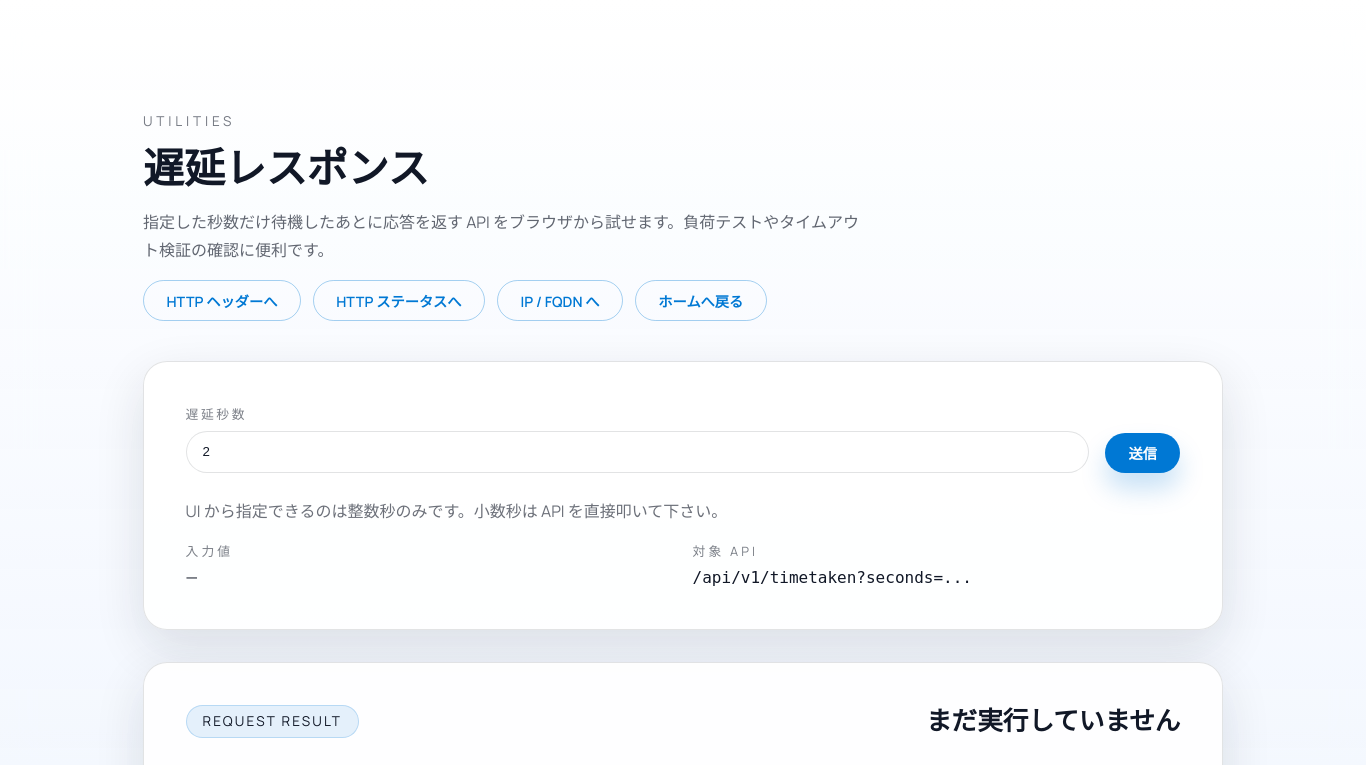
Scenario: Utility pages › TimeTakenPage cancels the in-flight request from the form
expect the button "中断" is not shown: met
Click the button "送信" at (1143, 453), box [1105, 433, 1180, 473]
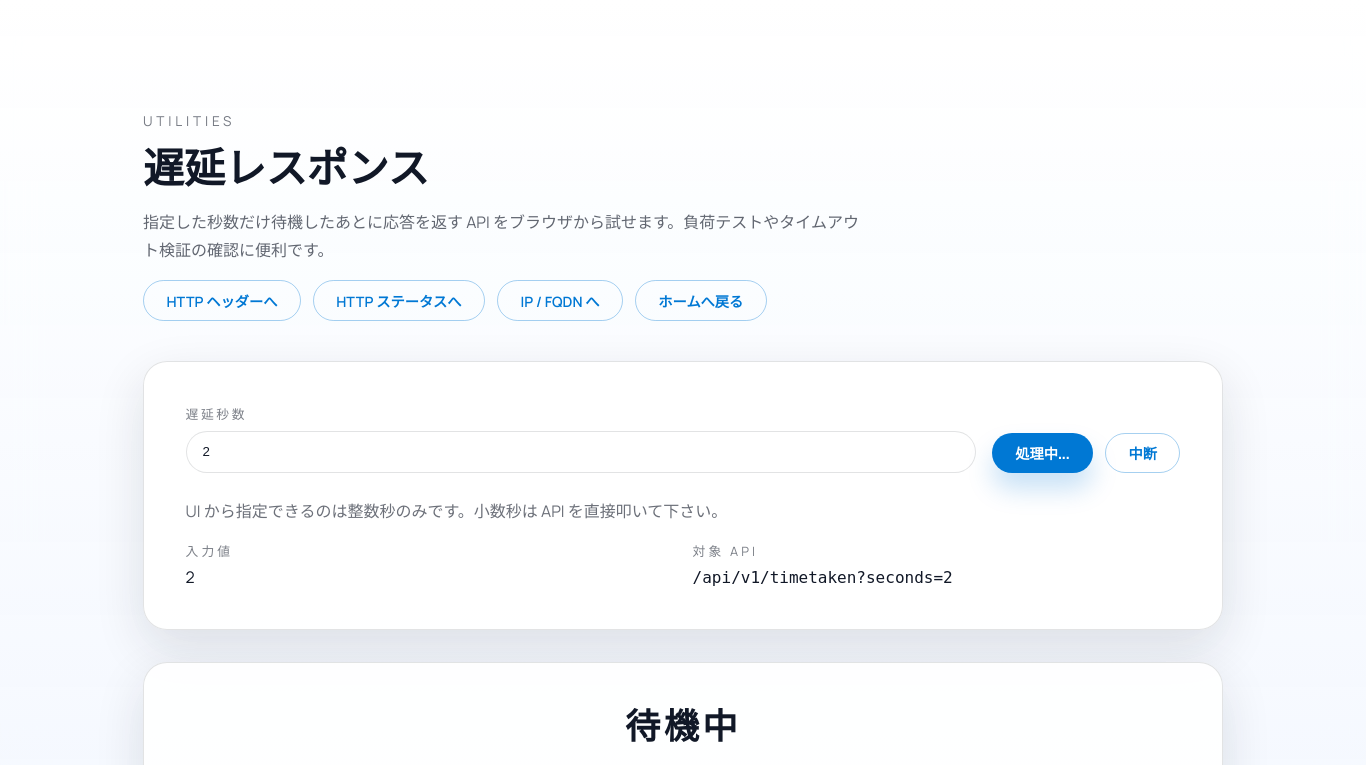
expect the heading "待機中" is shown: met, box [625, 705, 741, 747]
expect the button "中断" is enabled: met
Click the button "中断" at (1143, 453), box [1105, 433, 1180, 473]
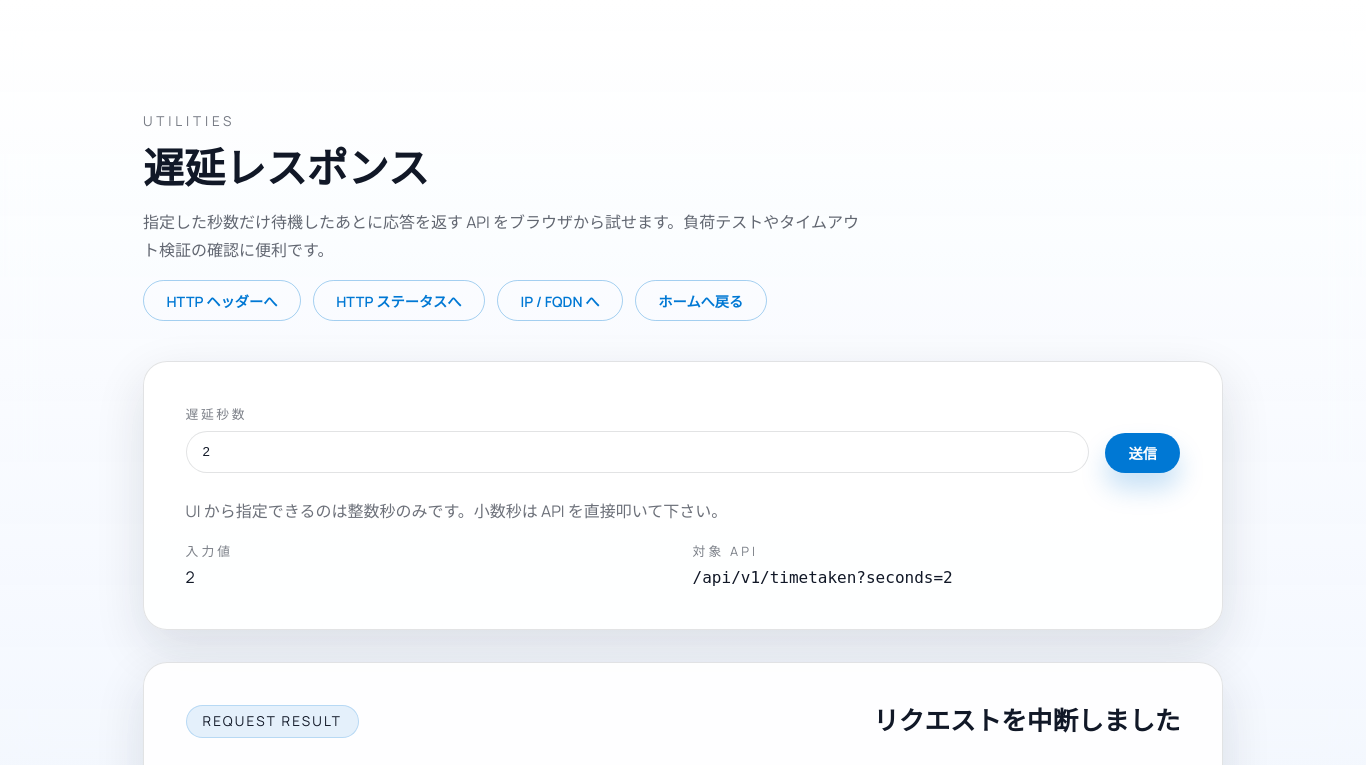
expect the heading "リクエストを中断しました" is shown: met, box [873, 706, 1180, 737]
expect the button "送信" is enabled: met, box [1105, 433, 1180, 473]
